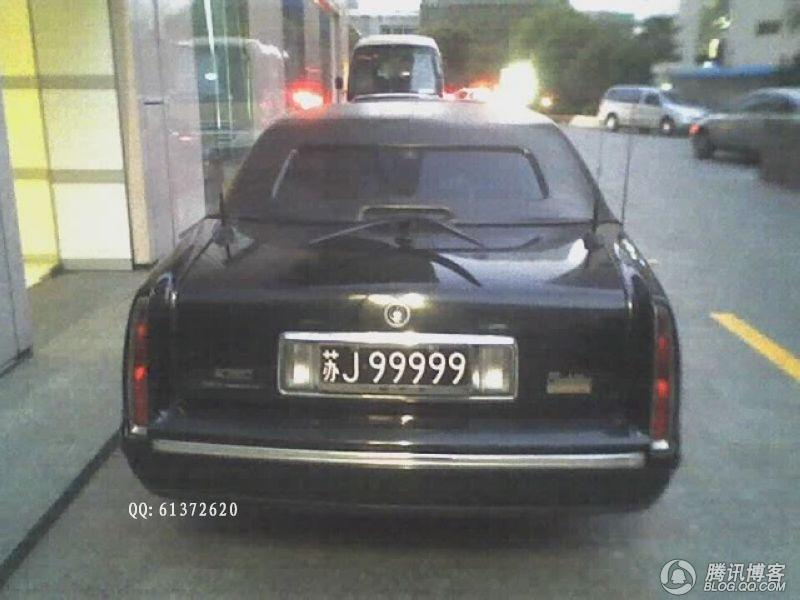plate_number: (317, 342, 476, 399)
